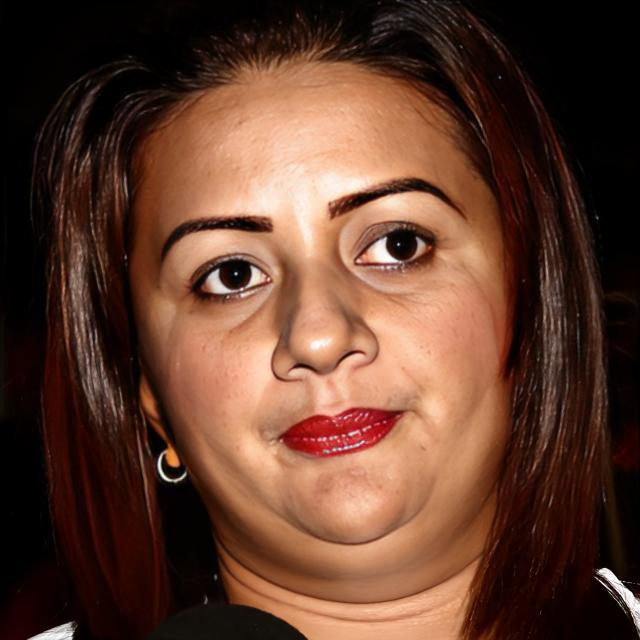content: (128, 52, 518, 546)
